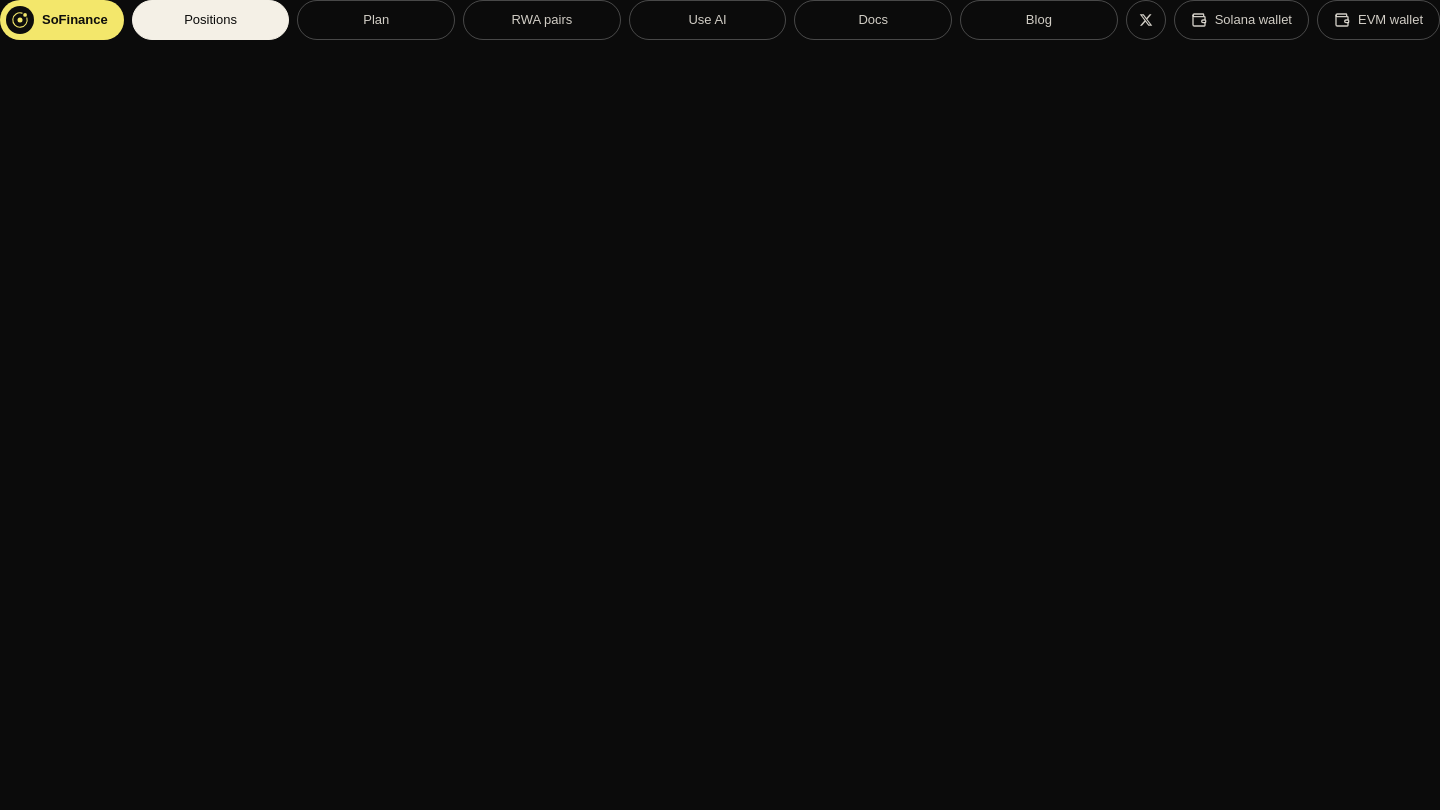
EVM connect goes through the terms step › asks first in a browser that never accepted, with the same terms text, then connects once accepted
Click the button with test id "nav-evm-wallet": (1378, 20) [1317,0,1439,40]
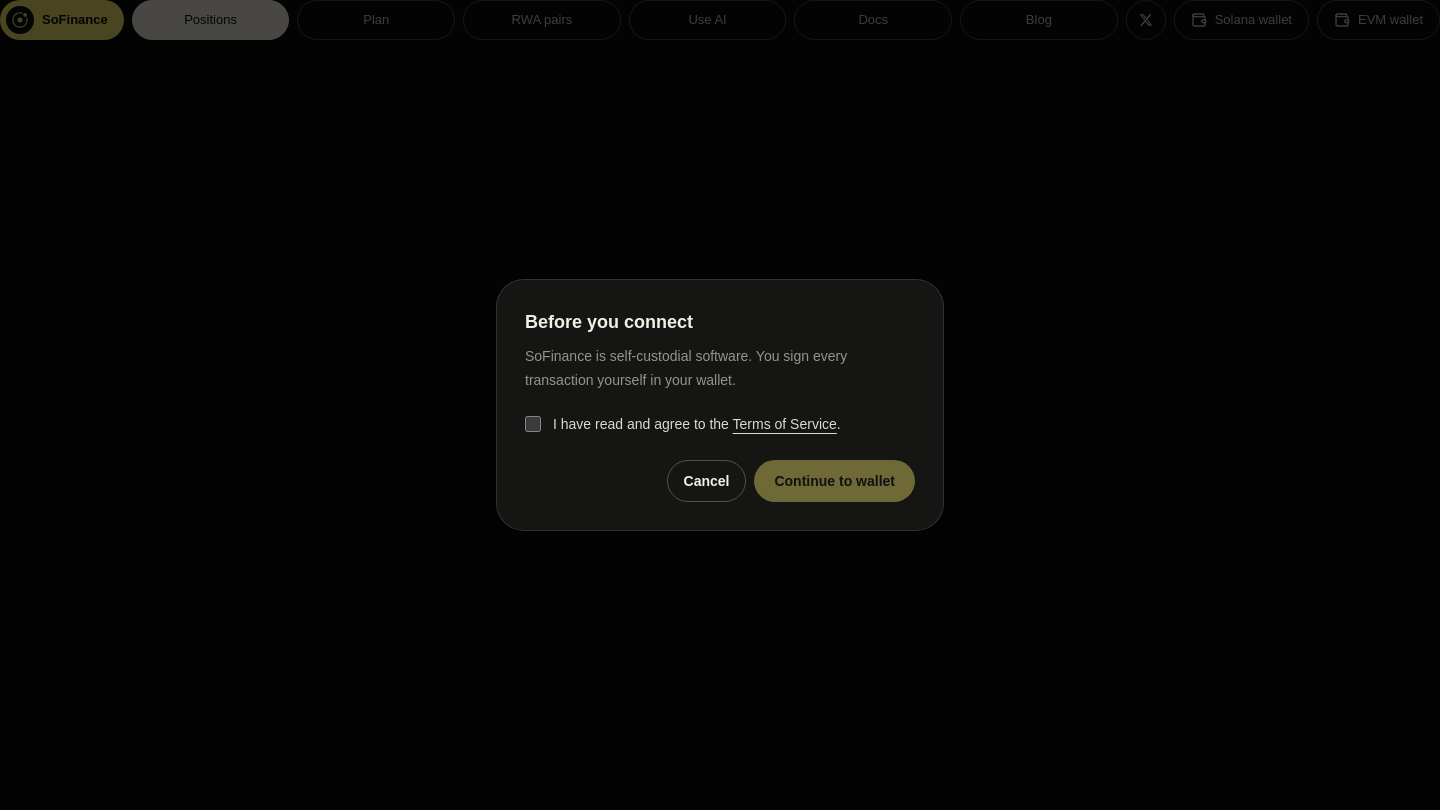
Check: the dialog is shown, box [496,279,944,531]
Check: the dialog shows "Before you connect", box [525,312,693,332]
Check: the dialog shows "I have read and agree to the", box [553,416,732,432]
Click the checkbox labelled "I have read and agree to the Terms of Service .": (533, 424) [525,416,541,432]
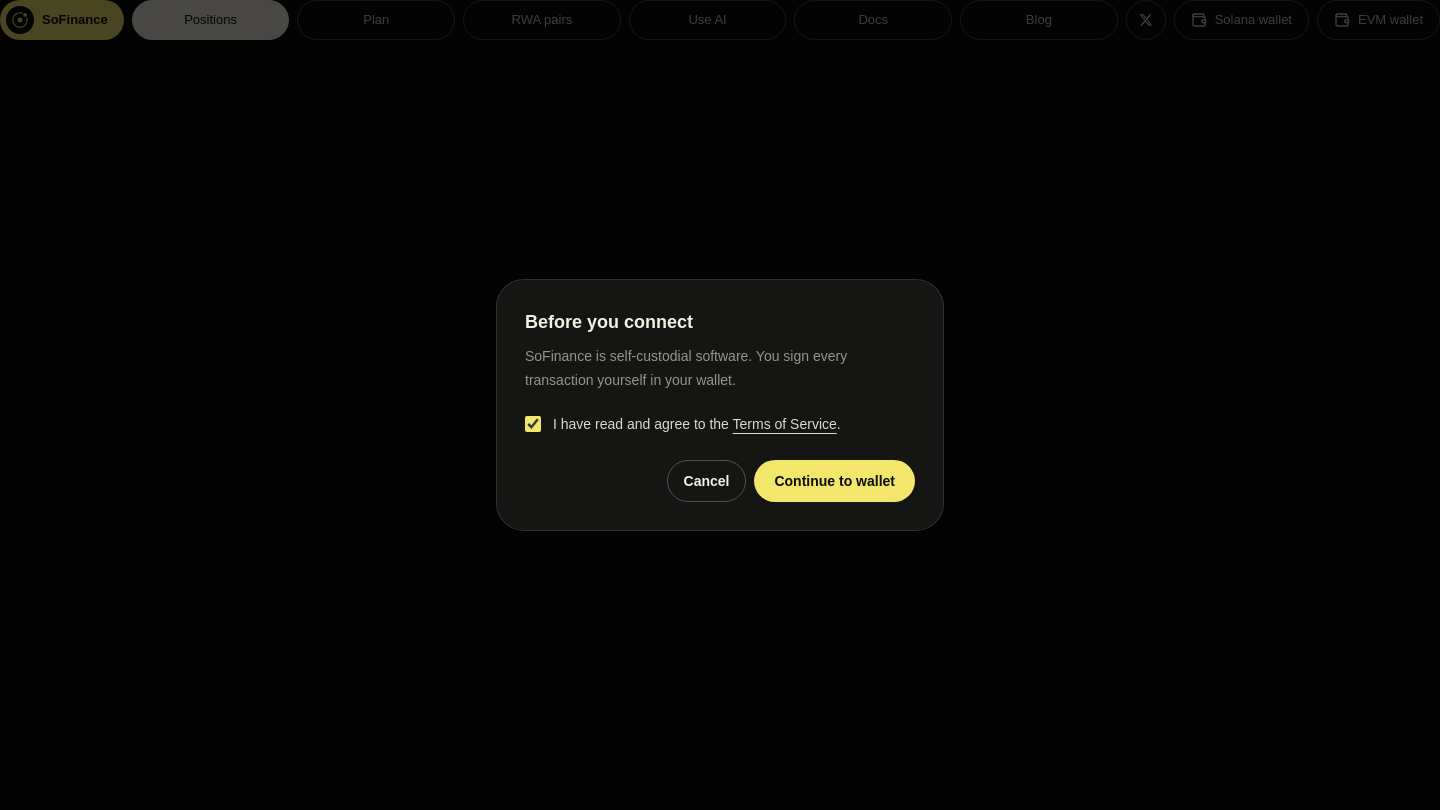
Click the button "Continue to wallet": (835, 481) [754,460,915,502]
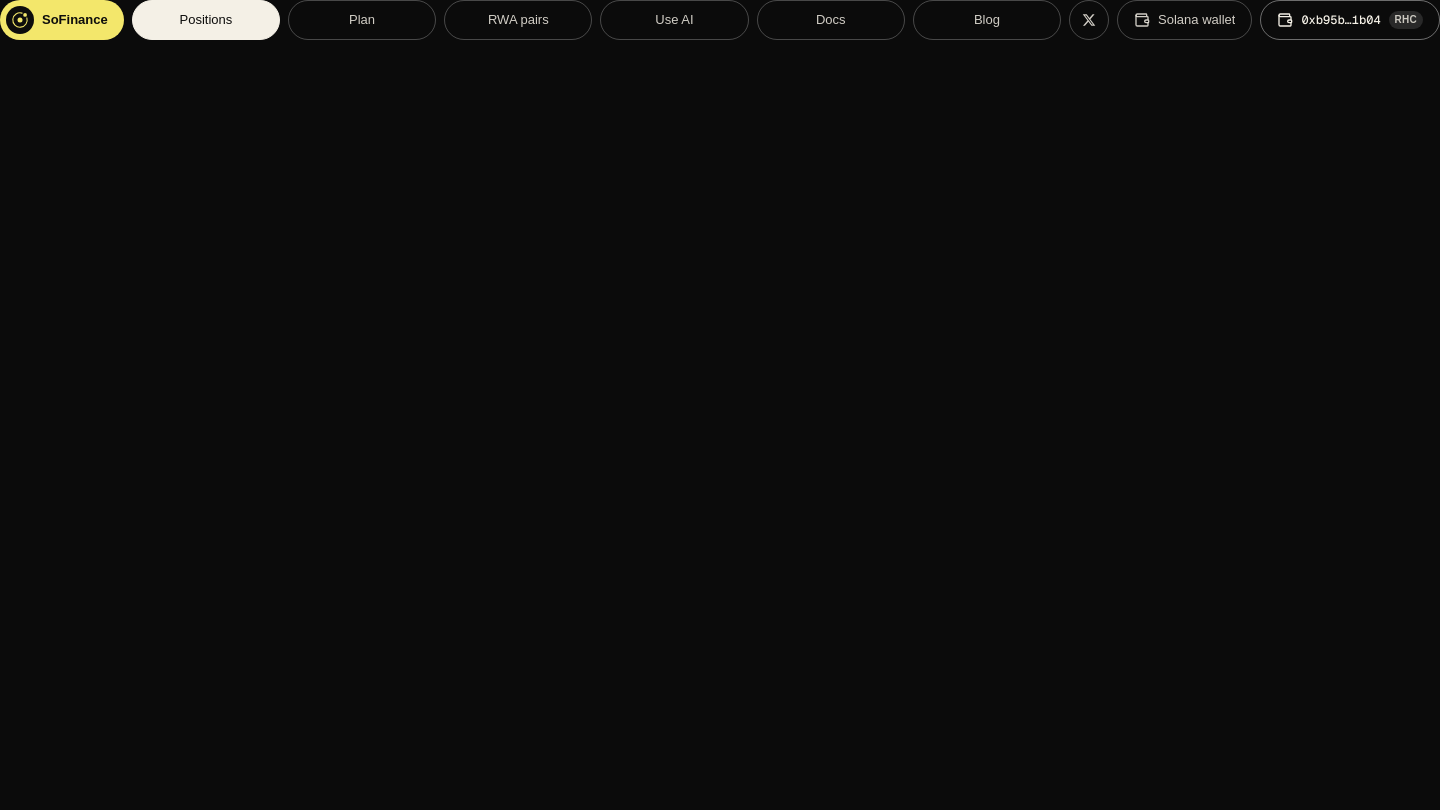
Check: the heading "Before you connect" is gone
